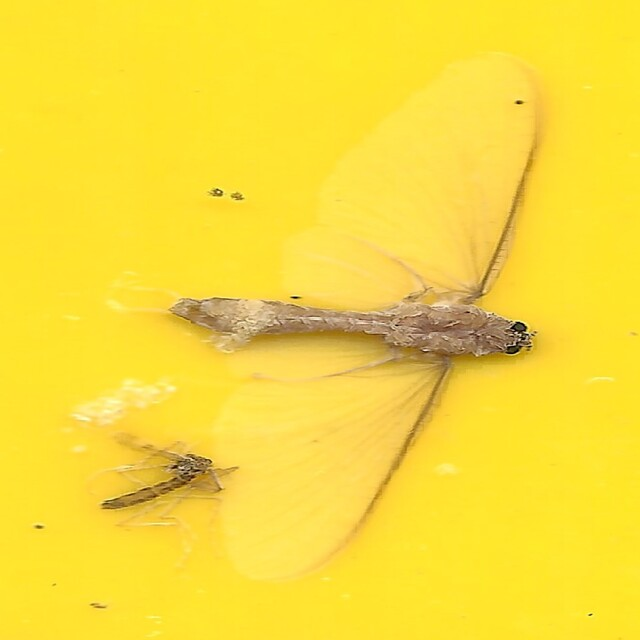Ephemeroptera: (163, 55, 544, 585)
Nematocera: (96, 433, 238, 525)
